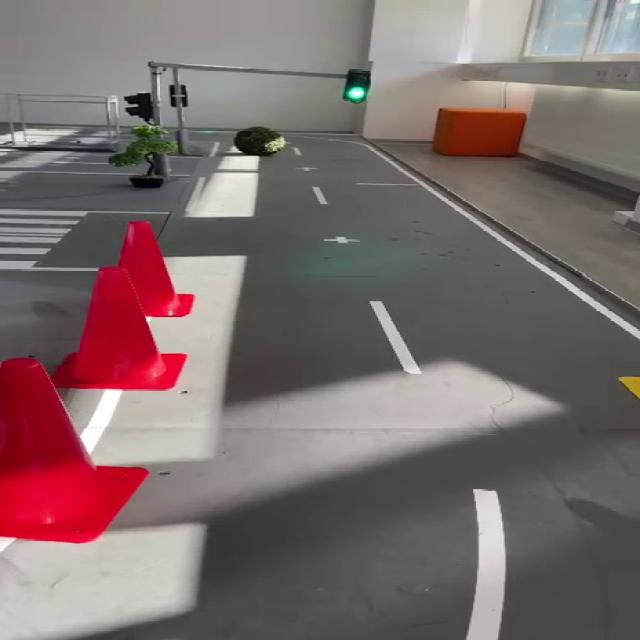Cone-red: (0, 358, 148, 543), (51, 268, 186, 389), (117, 221, 193, 316)
Cones-yellow: (618, 377, 639, 400)
